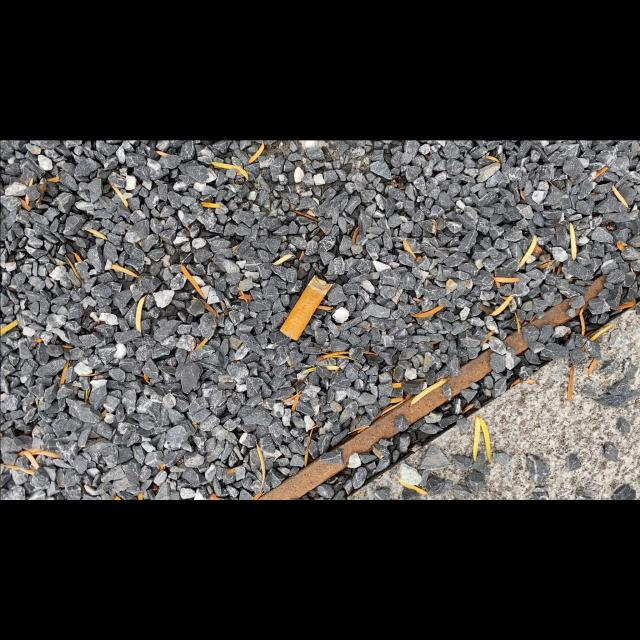cigarette: (278, 271, 334, 341)
